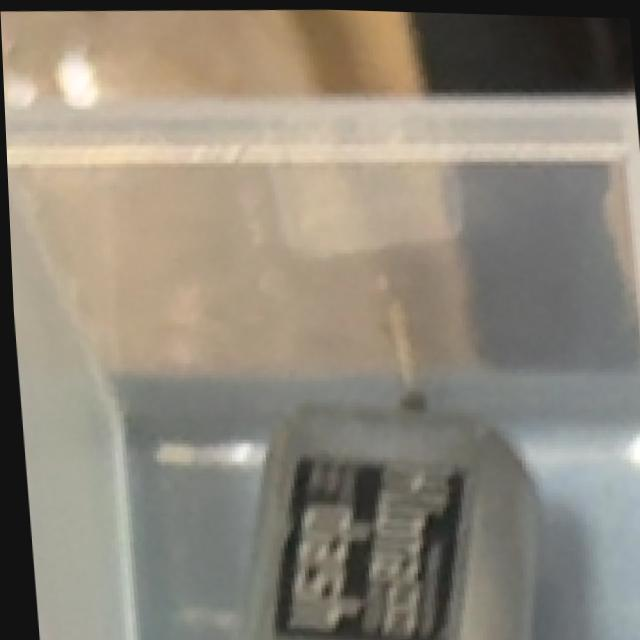Motor: (234, 384, 551, 640)
